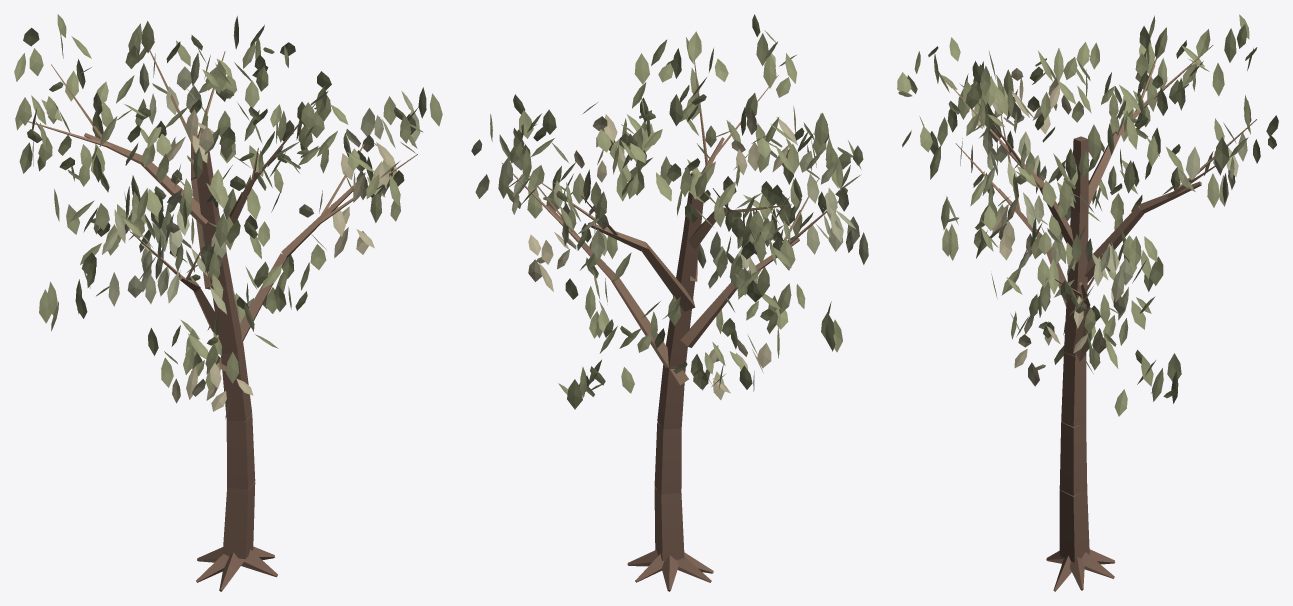
File: tree_3d_06.glb
3 renders of one model, left to right at view 1: azimuth 30°, elevation 25°; view 2: azimuth 150°, elevation 25°; view 3: azimuth 270°, elevation 25°, orthographic. The views are drawn at different scales.
Visible parts, largest first — view 1: tree_3d_06_foliage, tree_3d_06_wood; view 2: tree_3d_06_foliage, tree_3d_06_wood; view 3: tree_3d_06_foliage, tree_3d_06_wood.
Part boxes in pixels (bbox=[...]): tree_3d_06_foliage: bbox=[14, 14, 442, 419]; tree_3d_06_wood: bbox=[28, 50, 417, 591]; tree_3d_06_foliage: bbox=[471, 14, 868, 409]; tree_3d_06_wood: bbox=[502, 60, 838, 591]; tree_3d_06_foliage: bbox=[897, 14, 1278, 416]; tree_3d_06_wood: bbox=[943, 45, 1256, 591].
Size of the model in its own units: 5.8 by 8 by 5.2.
